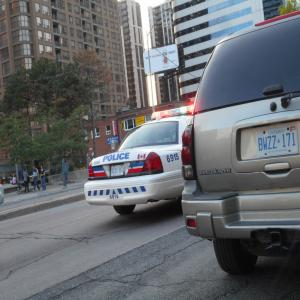Vehicle-registration-plate: (247, 115, 296, 169), (112, 165, 125, 177)
